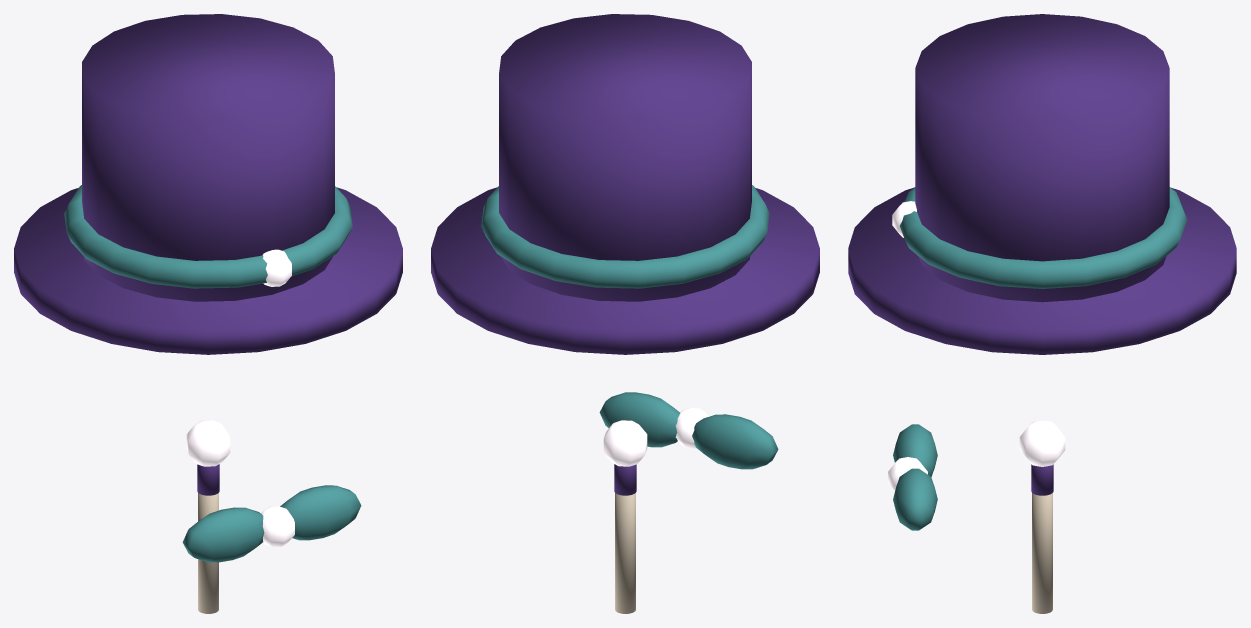
The model's file is opera_magician_outfit.glb.
The picture shows the model from 3 angles, left to right: view 1: azimuth 30°, elevation 25°; view 2: azimuth 150°, elevation 25°; view 3: azimuth 270°, elevation 25°; orthographic projection.
Parts seen in each view (by area): view 1: Crown.001, Brim.001, HatBand.001, TieLoop-1, TieLoop1, WandStar, Wand, TieKnot, BandPearl, WandTip; view 2: Crown.001, Brim.001, HatBand.001, TieLoop-1, TieLoop1, Wand, WandStar, TieKnot, WandTip; view 3: Crown.001, Brim.001, HatBand.001, Wand, TieLoop1, WandStar, TieLoop-1, WandTip, TieKnot.
Part boxes in pixels (x1,y1,x2,y2): Crown.001: (82,14,334,301); Brim.001: (14,187,402,354); HatBand.001: (64,185,352,288); TieLoop-1: (182,507,264,562); TieLoop1: (280,485,361,540); WandStar: (186,420,230,466); Wand: (198,493,218,613); TieKnot: (261,506,294,546); BandPearl: (262,249,291,286); WandTip: (197,464,219,495); Crown.001: (499,14,751,301); Brim.001: (431,187,819,354); HatBand.001: (481,185,769,288); TieLoop-1: (692,414,778,469); TieLoop1: (599,392,679,447); Wand: (615,493,635,613); WandStar: (603,420,647,466); TieKnot: (675,407,708,448); WandTip: (614,464,636,495); Crown.001: (915,14,1169,302); Brim.001: (848,187,1236,354); HatBand.001: (900,187,1187,288); Wand: (1032,493,1052,613); TieLoop1: (893,468,937,530); WandStar: (1019,420,1065,466); TieLoop-1: (893,424,937,476); WandTip: (1031,464,1053,495); TieKnot: (888,457,927,491).
Bounding box in the file's own units: 2.6 × 4 × 2.6.
